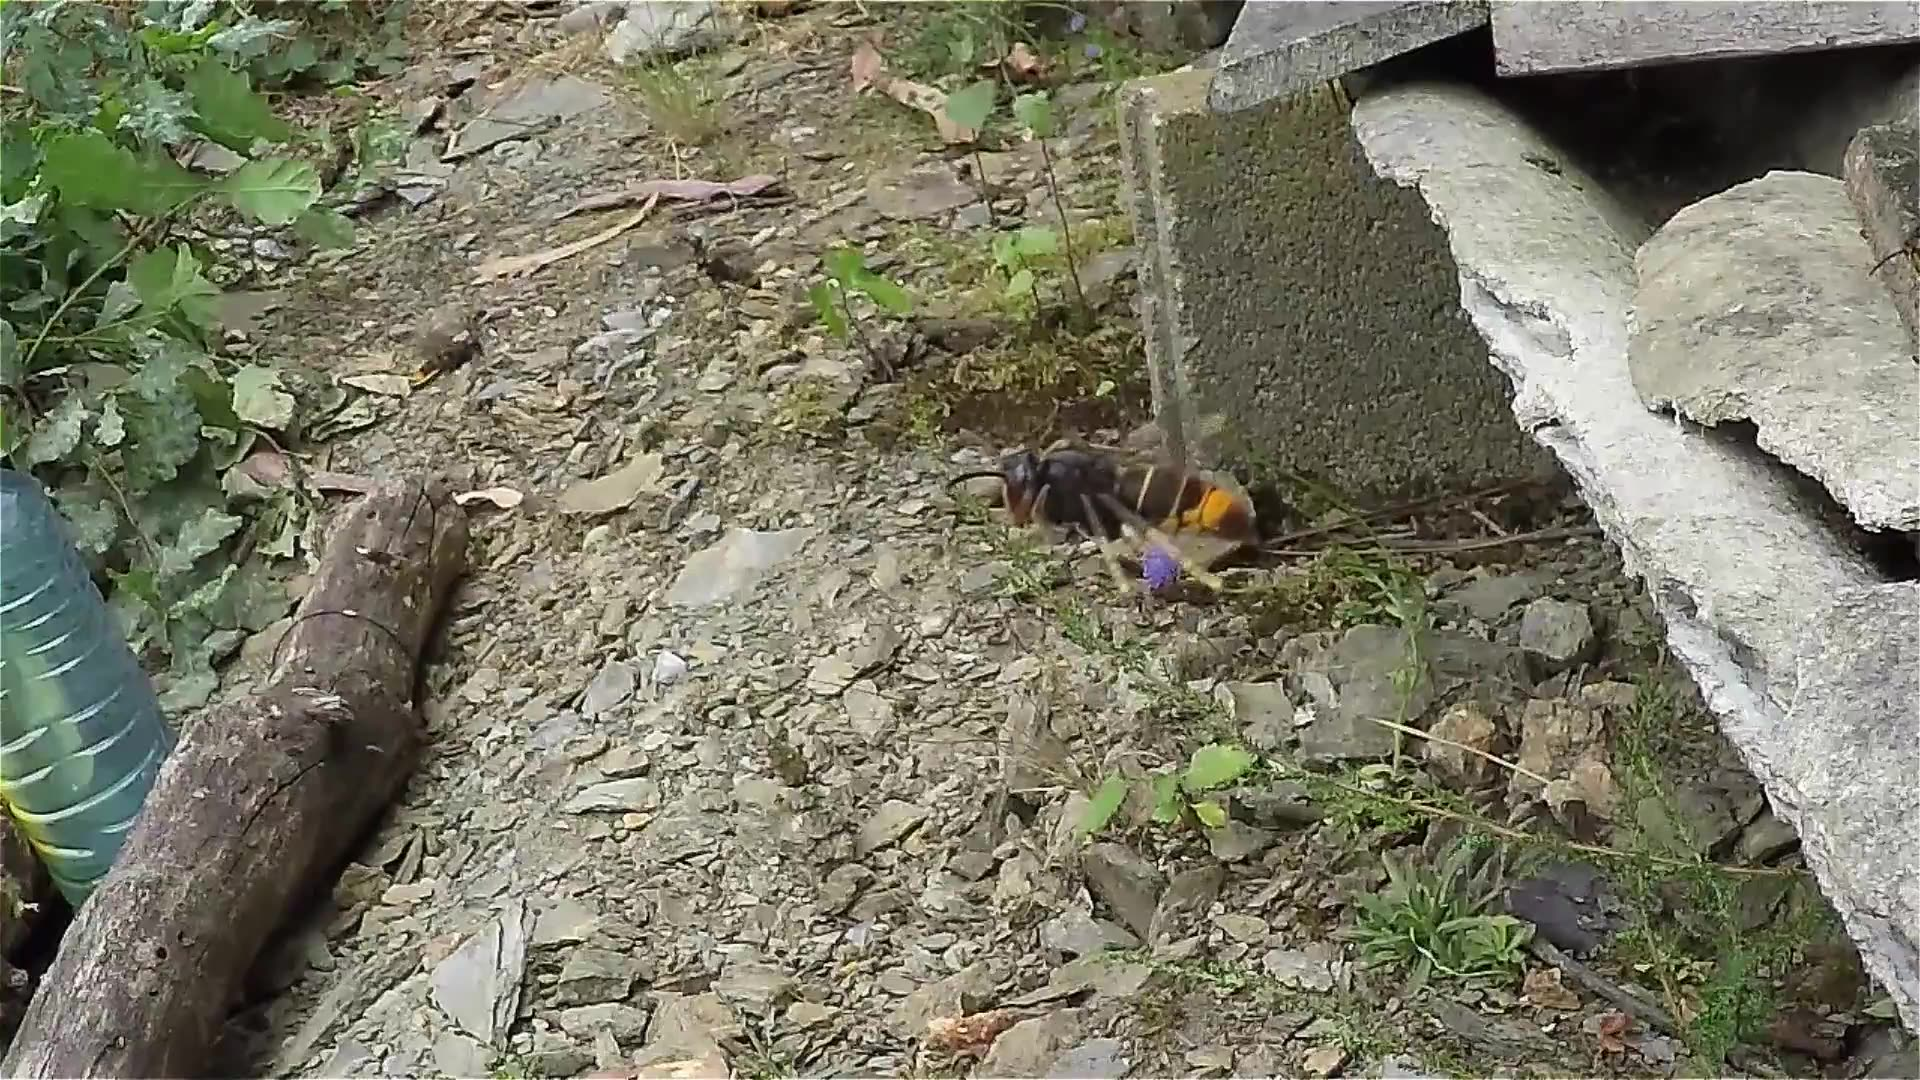hornet: (984, 433, 1273, 574), (398, 326, 495, 389), (686, 253, 773, 303)
